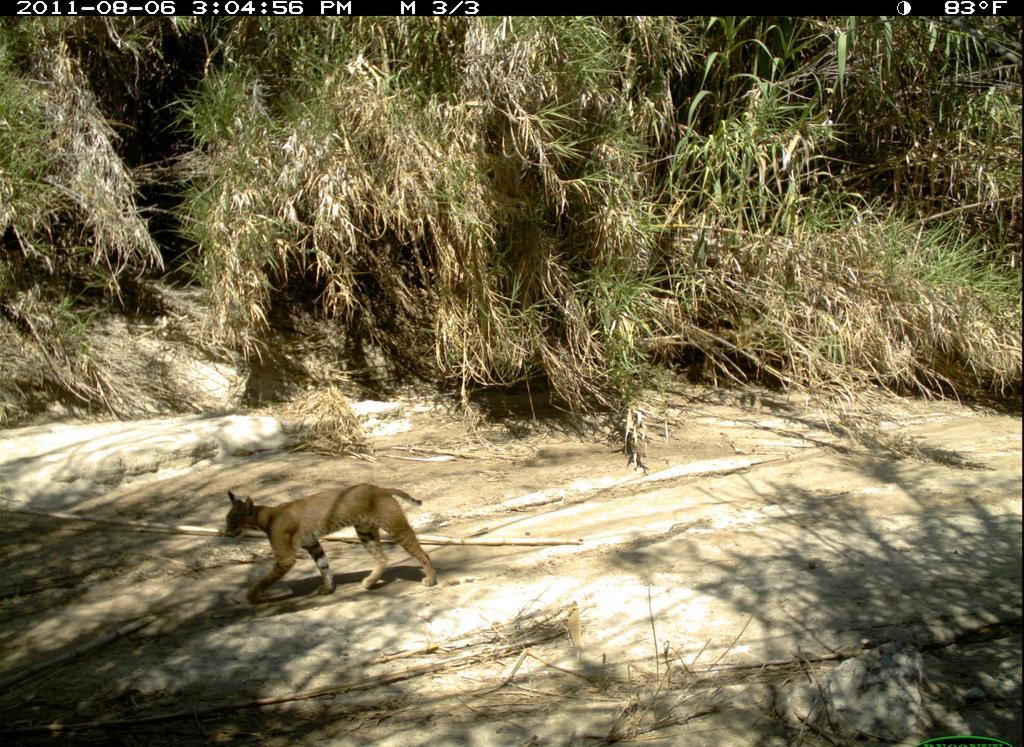bobcat: (218, 483, 441, 607)
